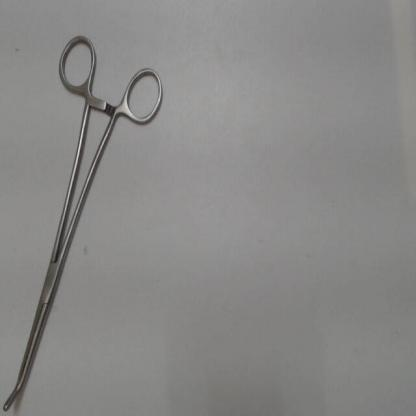Lahey Forceps: (0, 30, 174, 414)
